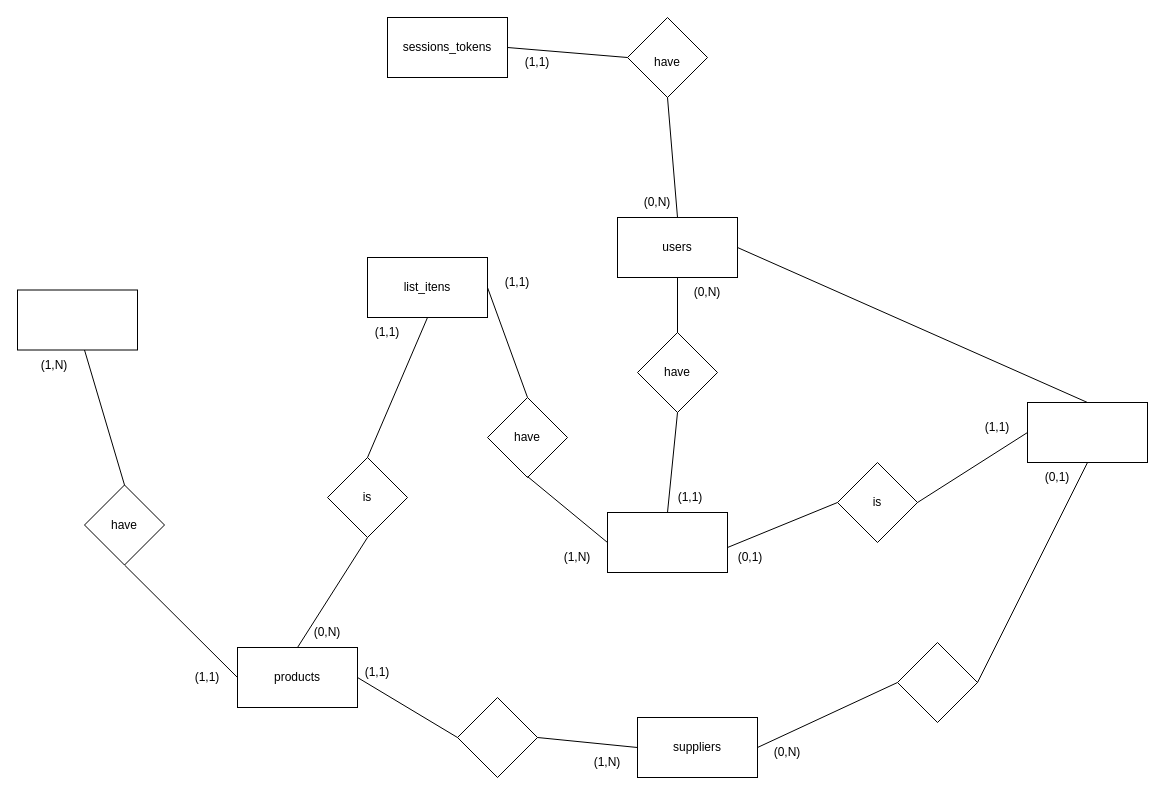
This 1165x795 diagram has some shape labels left out. Each missing label, with the centre of its shape:
budgets: point 1087,432
categories: point 77,319
lists: point 667,542
quote: point 937,682
to supply: point 497,737
